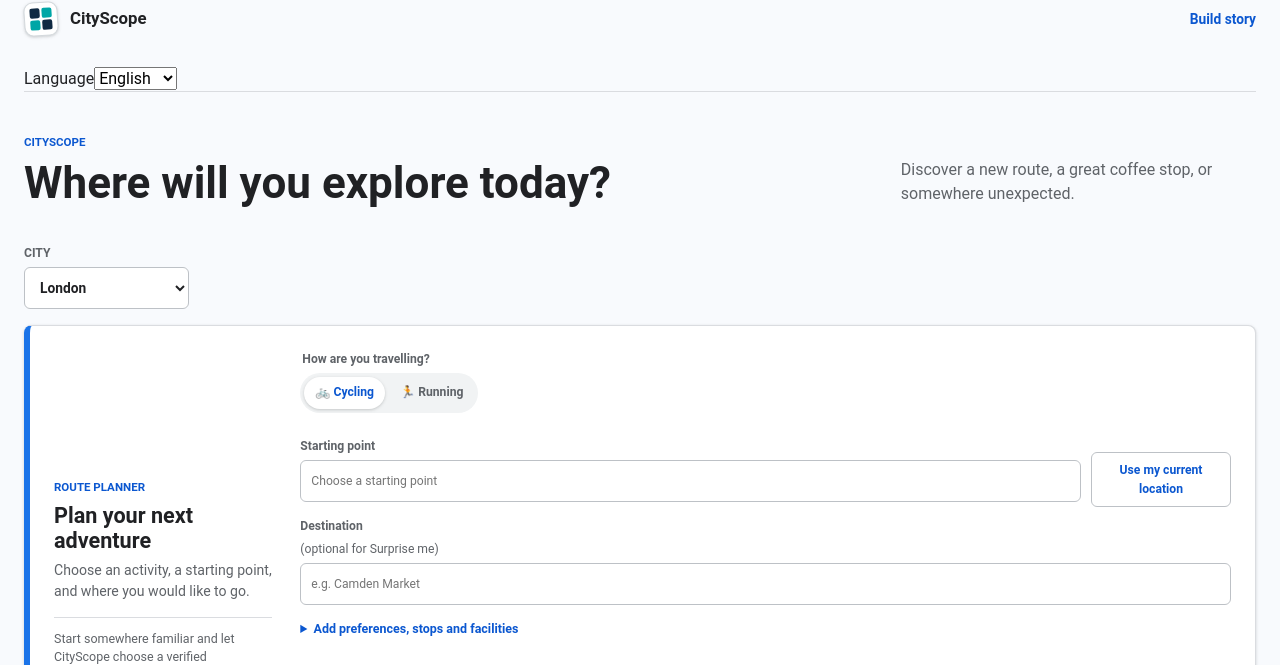
Test: CityScopeWorkspace › turns backend failures into a friendly retry state
Type "King's Cross" into the field labelled "Starting point".
click(691, 481); type("King's Cross")  # box [300,460,1081,502]
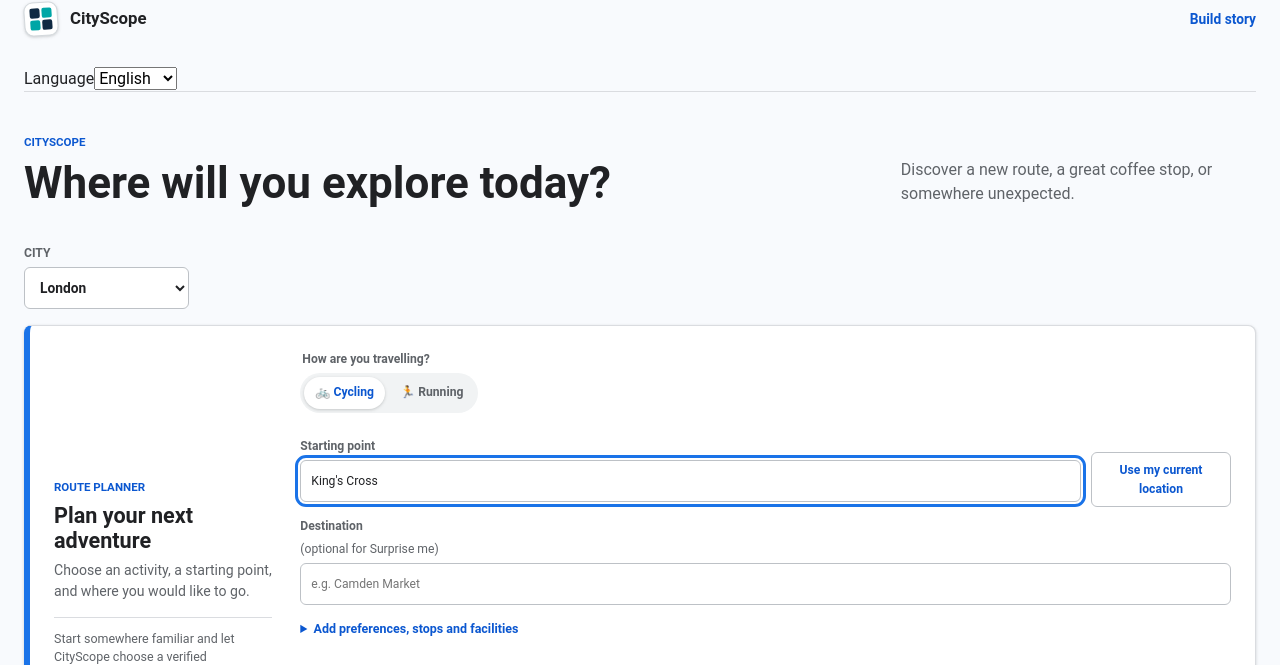
Type "Camden" into the field labelled "Destination (optional for Surprise me)".
click(766, 584); type("Camden")  # box [300,563,1231,605]
(page scrolled)
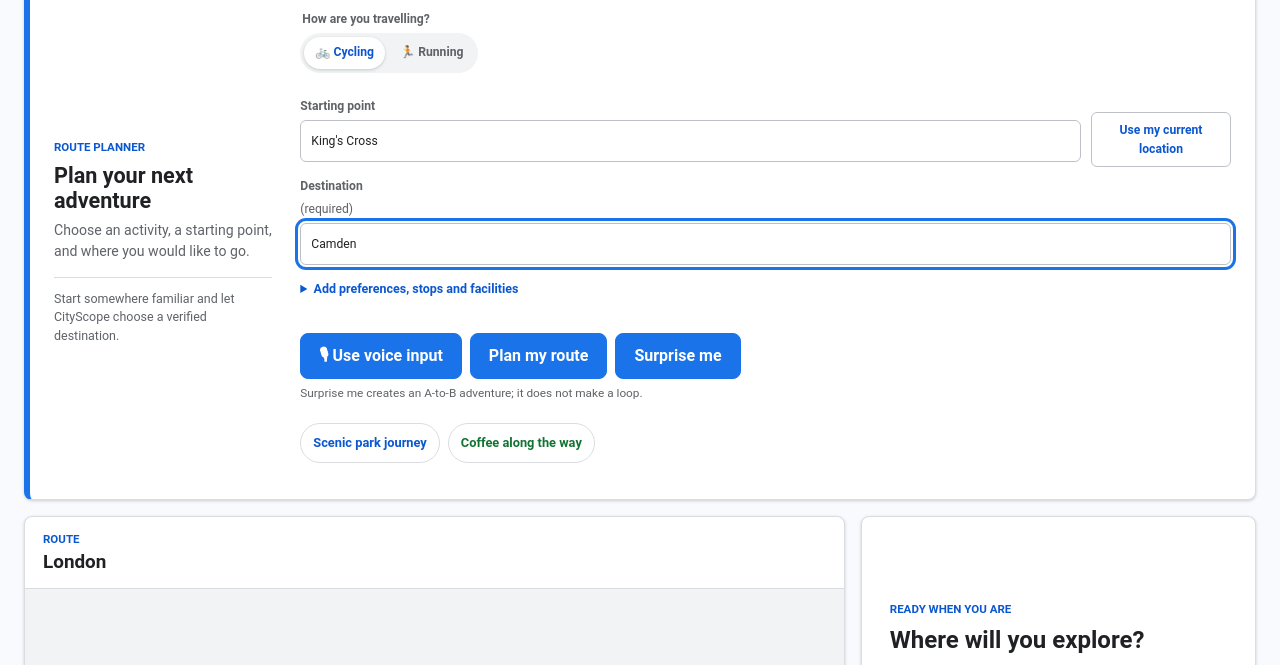
Click the button "Plan my route".
click(539, 356)  # box [470,333,607,379]
(page scrolled)
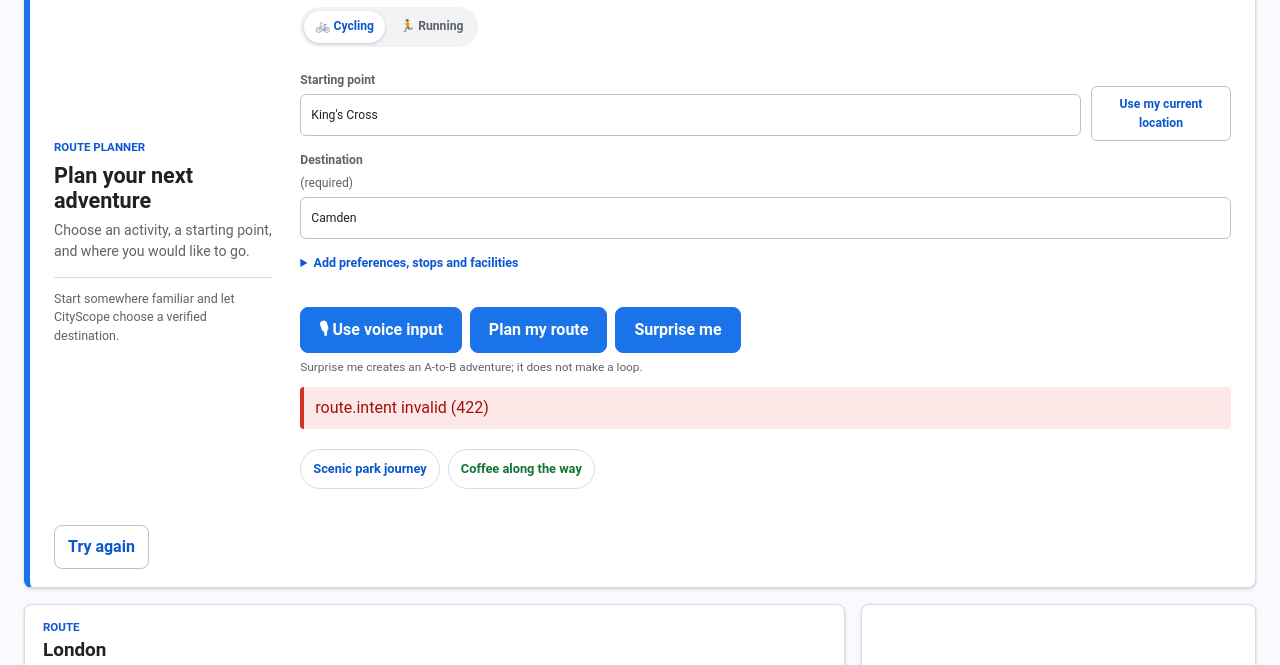
Check: the text "route.intent invalid (422)" is shown, box [300,387,1231,429]
